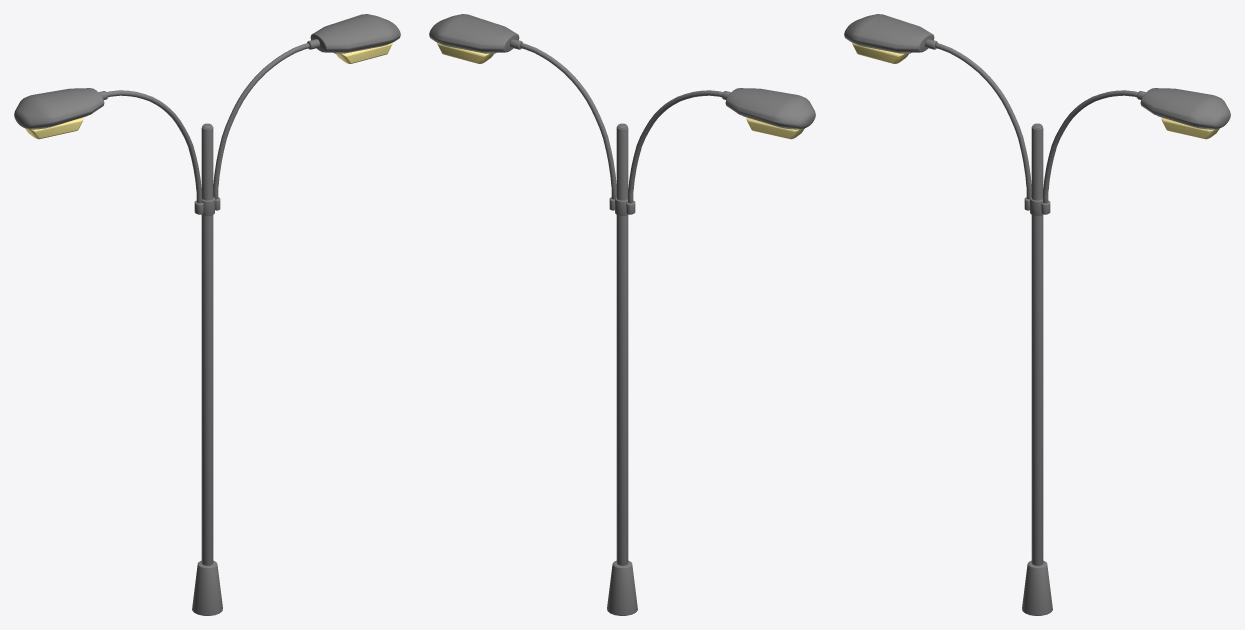
Rendered from Poste_luz.fbx.
3 views of the same model, side by side, from view 1: azimuth 30°, elevation 25°; view 2: azimuth 150°, elevation 25°; view 3: azimuth 330°, elevation 25° (orthographic).
Parts seen in each view (by area): view 1: Poste_luz_haste, Poste_luz, Poste_luz_lampada; view 2: Poste_luz_haste, Poste_luz, Poste_luz_lampada; view 3: Poste_luz_haste, Poste_luz, Poste_luz_lampada.
Part boxes in pixels (x1=…): Poste_luz_haste: x1=14, y1=14, x2=400, y2=214; Poste_luz: x1=192, y1=123, x2=222, y2=615; Poste_luz_lampada: x1=25, y1=42, x2=392, y2=139; Poste_luz_haste: x1=429, y1=14, x2=815, y2=214; Poste_luz: x1=607, y1=123, x2=637, y2=615; Poste_luz_lampada: x1=437, y1=42, x2=804, y2=139; Poste_luz_haste: x1=844, y1=14, x2=1230, y2=214; Poste_luz: x1=1022, y1=123, x2=1052, y2=615; Poste_luz_lampada: x1=852, y1=42, x2=1219, y2=139.
Bounding box in the file's own units: 764 × 1069 × 106.
